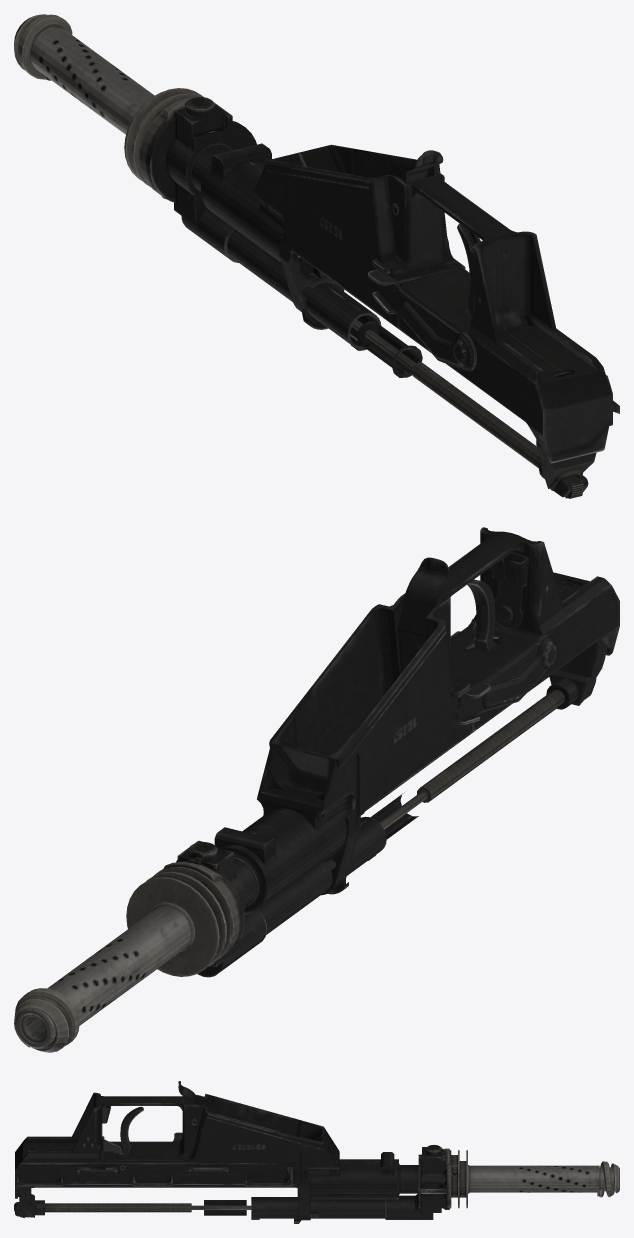
3 views of the same model, one above another, from view 1: azimuth 30°, elevation 25°; view 2: azimuth 150°, elevation 25°; view 3: azimuth 270°, elevation 25° (orthographic). The views are drawn at different scales.
Parts seen in each view (by area): view 1: TW_57838ad32459774a17445cd2_PZ_Import; view 2: TW_57838ad32459774a17445cd2_PZ_Import; view 3: TW_57838ad32459774a17445cd2_PZ_Import.
Boxes of the visible parts, left/top/right/bottom form: TW_57838ad32459774a17445cd2_PZ_Import: left=14, top=14, right=619, bottom=498; TW_57838ad32459774a17445cd2_PZ_Import: left=14, top=527, right=619, bottom=1052; TW_57838ad32459774a17445cd2_PZ_Import: left=14, top=1081, right=619, bottom=1223.
Bounding box in the file's own units: 0.0243 × 0.2344 × 0.06.
Materials: 1 (1 with a texture image).
